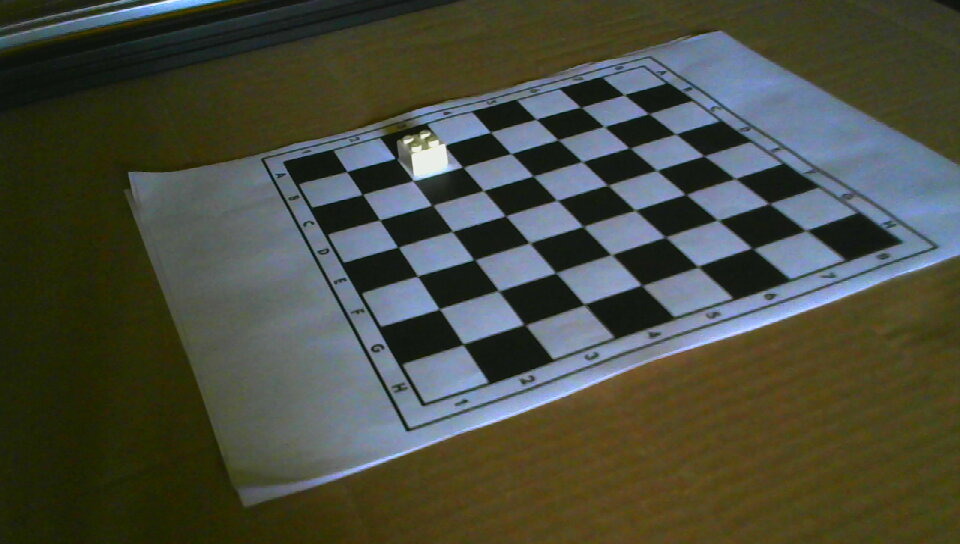wp: (395, 129, 448, 176)
